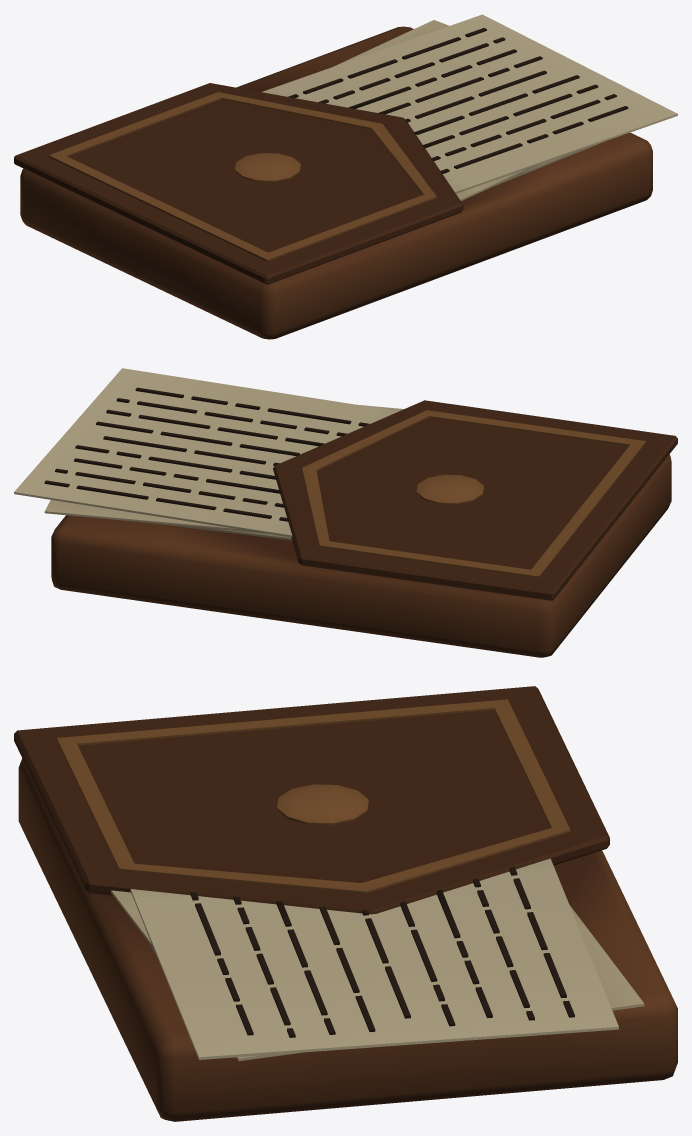
File: manuscript.glb
3 views of the same model, one above another, from view 1: azimuth 30°, elevation 25°; view 2: azimuth 150°, elevation 25°; view 3: azimuth 270°, elevation 25° (orthographic). The views are drawn at different scales.
Visible parts, largest first — view 1: base; view 2: base; view 3: base.
Boxes of the visible parts, x1,y1,x2,y2 form: base: [14, 14, 677, 339]; base: [14, 368, 677, 657]; base: [14, 686, 677, 1121].
Bounding box in the file's own units: 0.2052 × 0.0269 × 0.1558.
